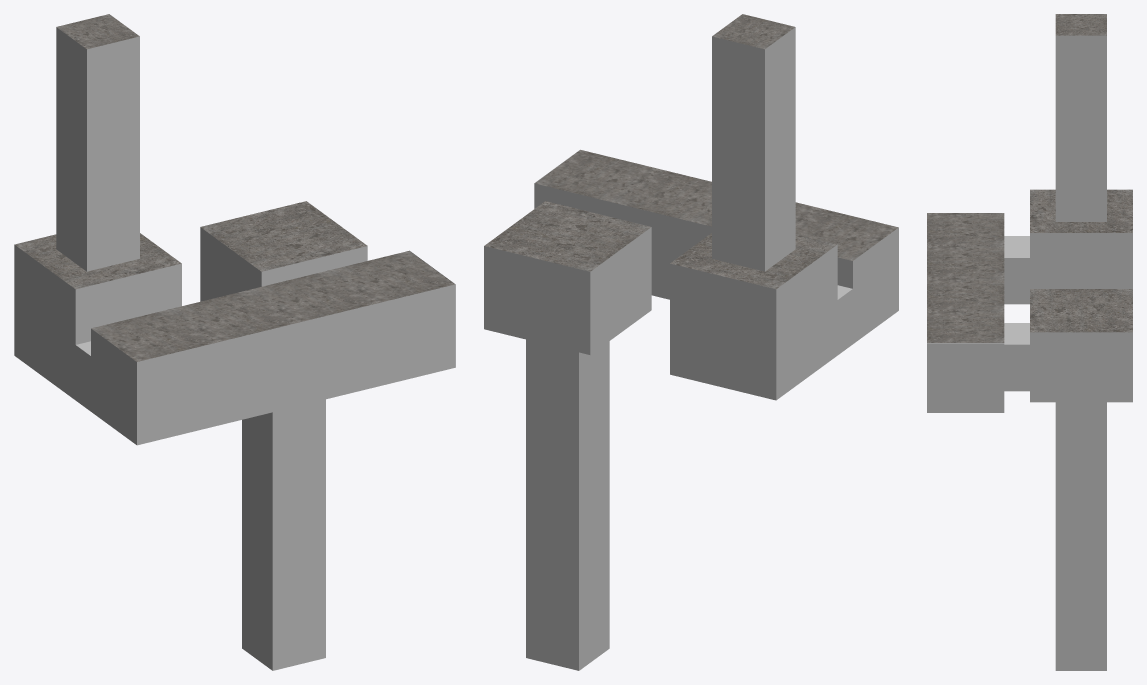
File: backroom.fbx
3 views of the same model, side by side, from view 1: azimuth 30°, elevation 25°; view 2: azimuth 150°, elevation 25°; view 3: azimuth 270°, elevation 25° (orthographic). The views are drawn at different scales.
Visible parts, largest first — view 1: backroom; view 2: backroom; view 3: backroom.
Part boxes in pixels (left/top/right/bottom): backroom: left=14, top=14, right=455, bottom=670; backroom: left=484, top=14, right=898, bottom=670; backroom: left=927, top=14, right=1132, bottom=670.
Size of the model in its own units: 1200 by 2400 by 800.
